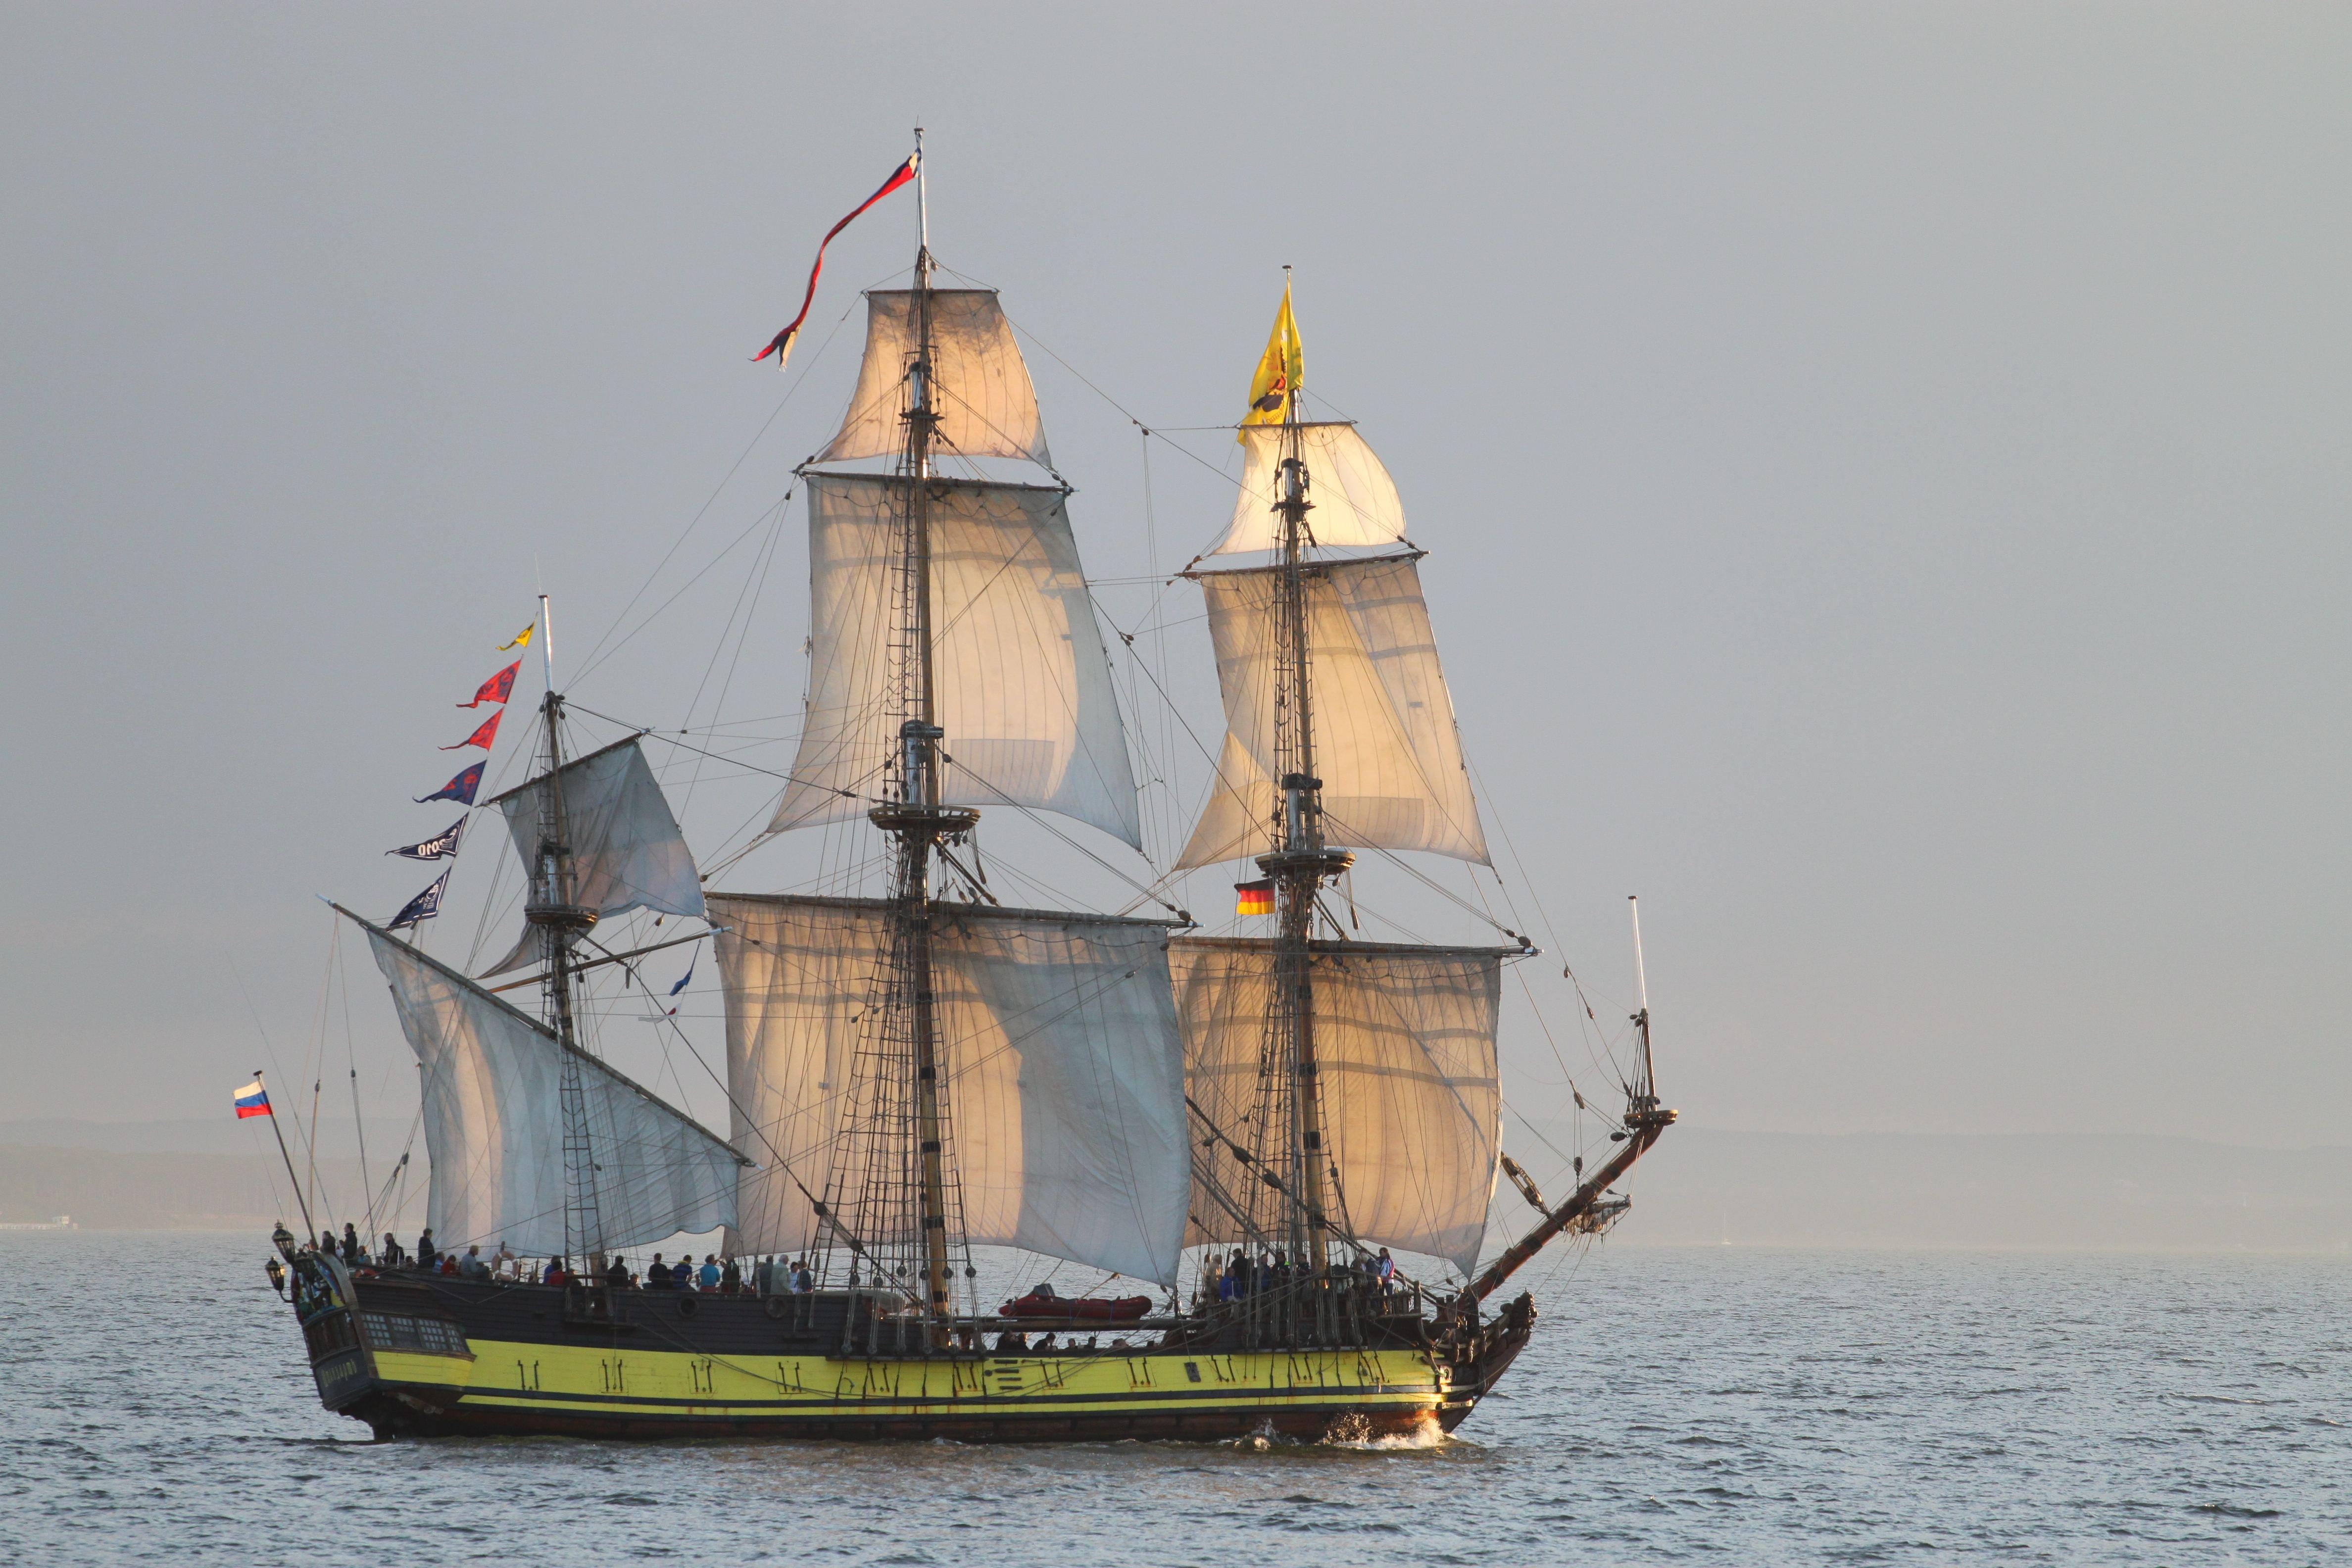fanchuan: (219, 86, 1694, 1430)
